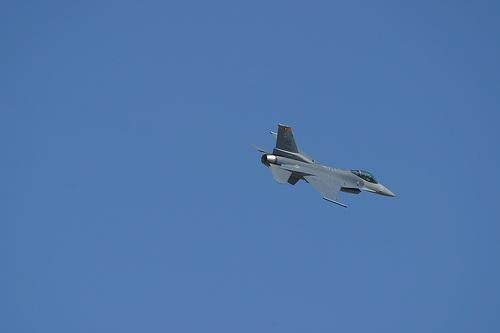aeroplane: (254, 123, 400, 213)
